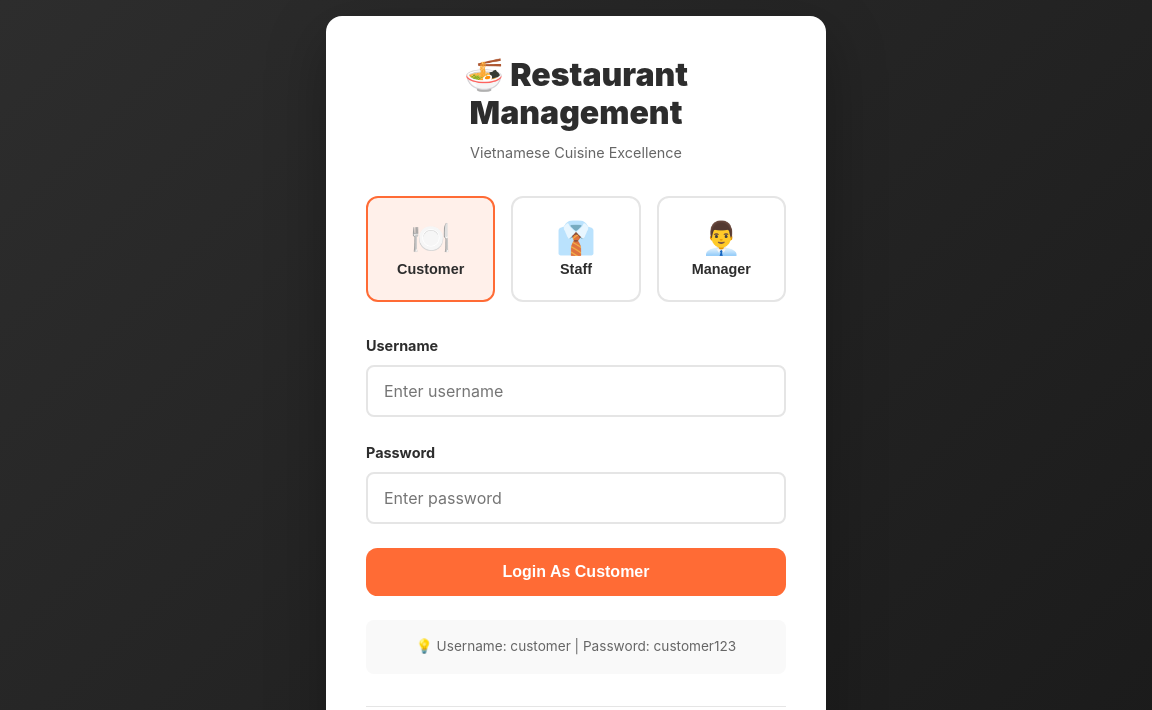
Login Flow › shows invalid credentials message
The width and height of the screenshot is (1152, 710).
In the field with id "username": point(576, 391) [366,365,786,417], type "customer"
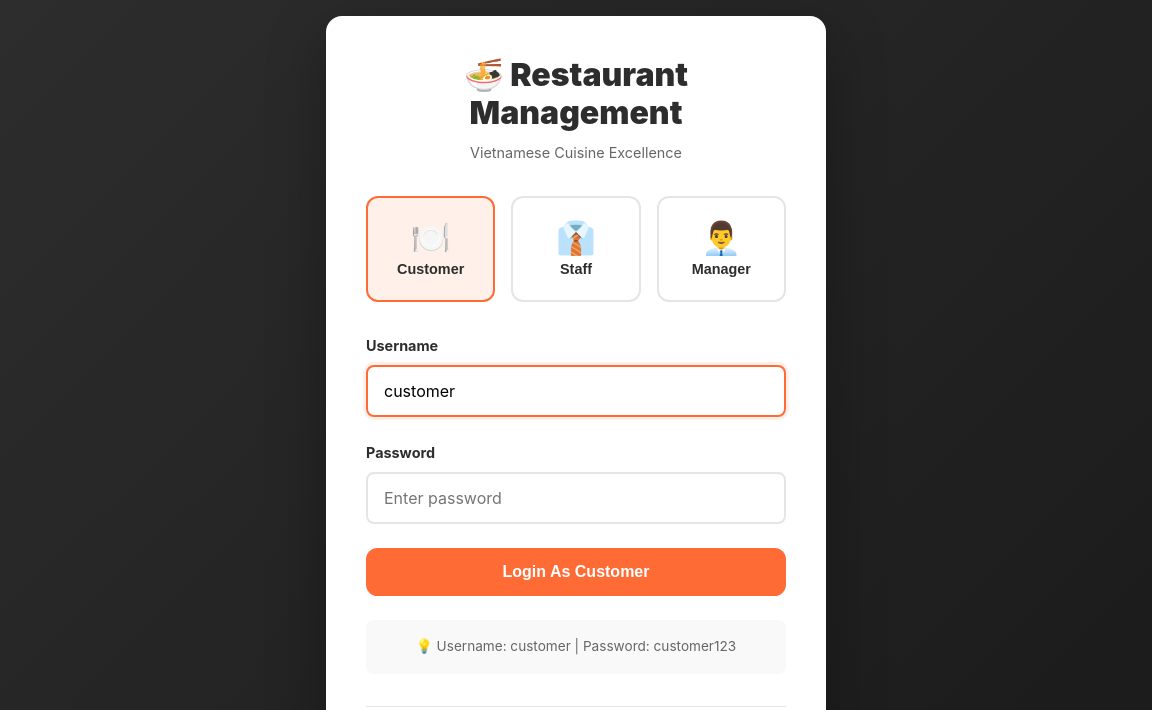
In the password field labelled "Password": point(576, 498) [366,472,786,524], type "wrong-password"
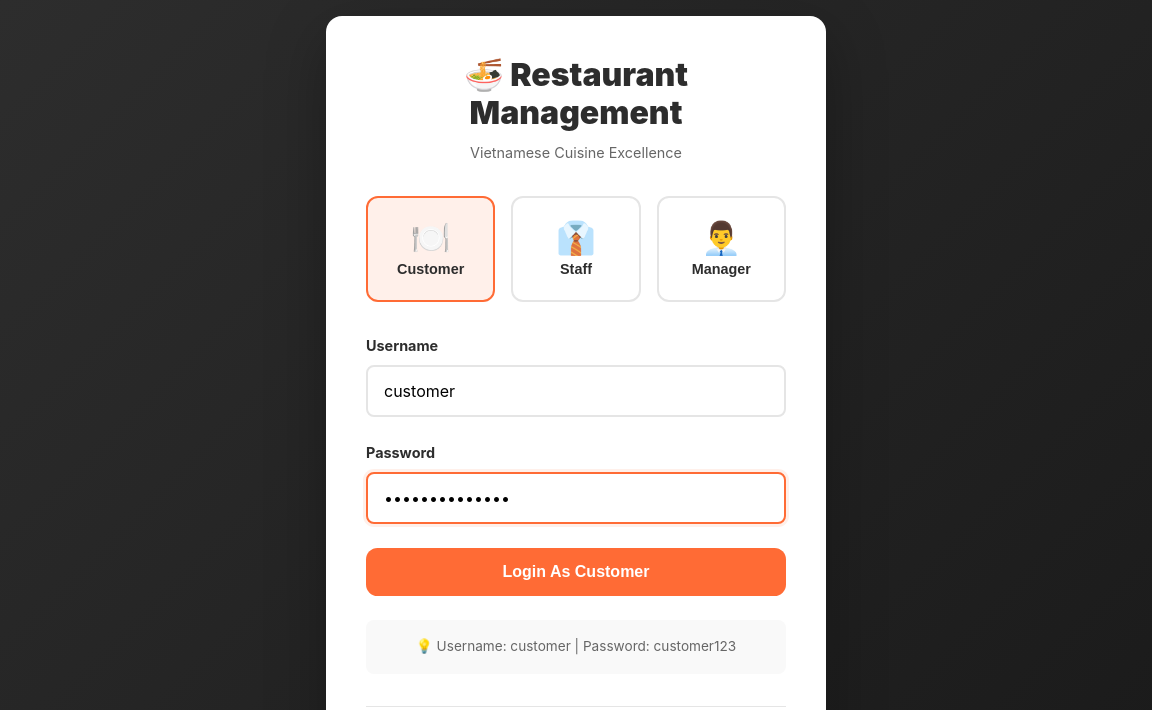
Click the button "Login as customer": point(576, 572) [366,548,786,596]
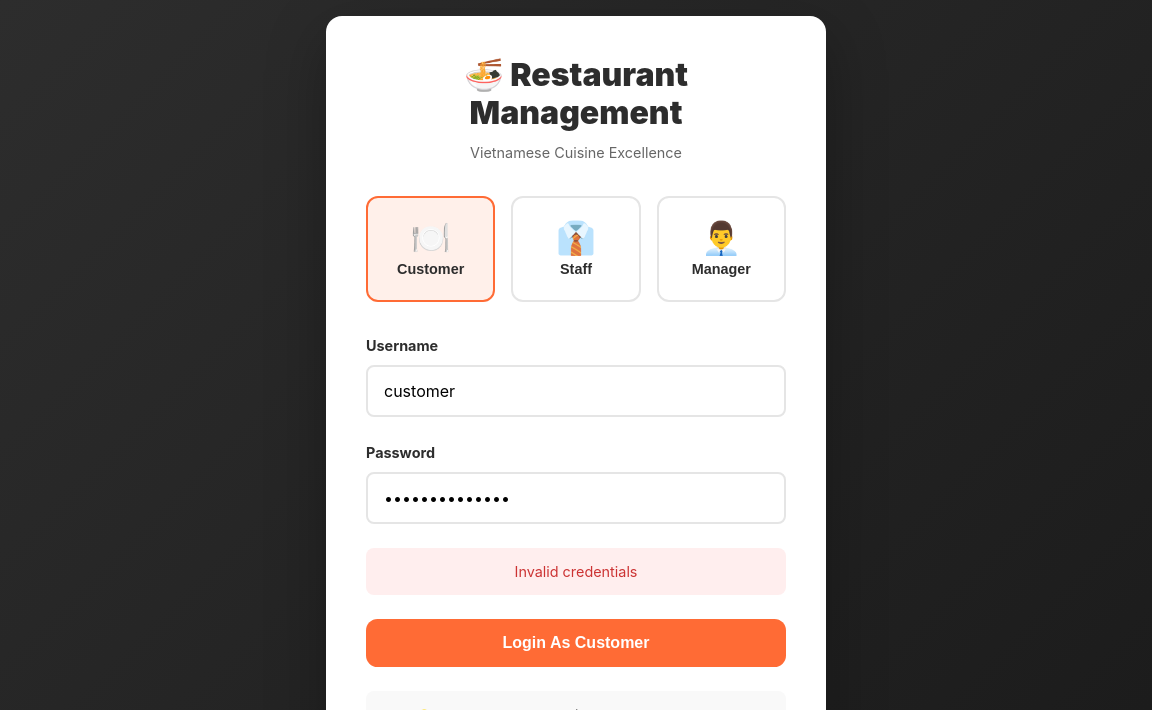
Check: the text "Invalid credentials" is shown, box [366,548,786,595]
